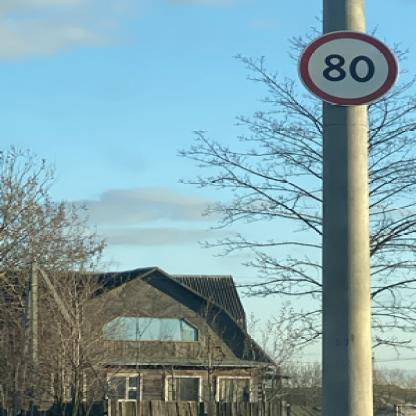Speed Limit 80: (298, 31, 397, 106)
